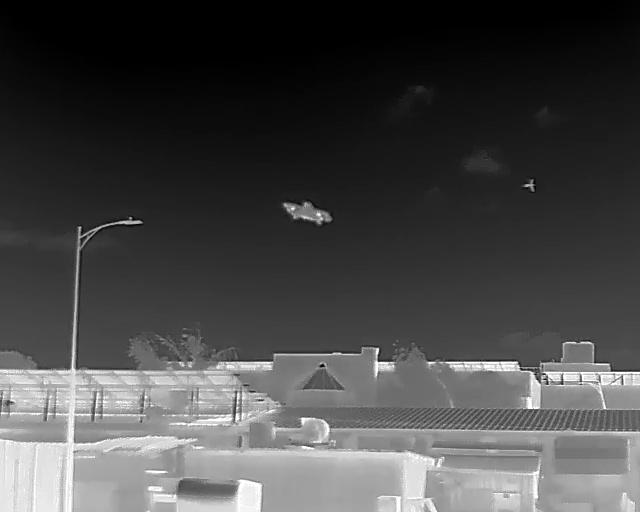fpv-drone: (283, 201, 332, 225)
